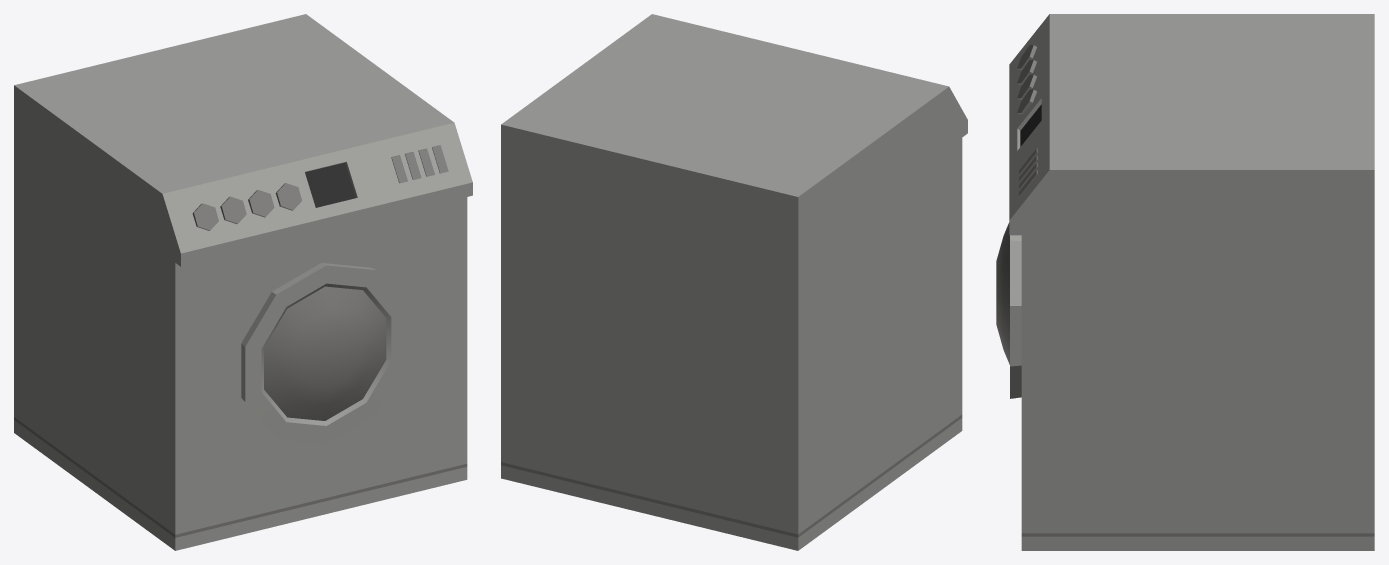
File: Bathroom_WashingMachine.glb
3 views of the same model, side by side, from view 1: azimuth 30°, elevation 25°; view 2: azimuth 150°, elevation 25°; view 3: azimuth 270°, elevation 25° (orthographic). The views are drawn at different scales.
Parts seen in each view (by area): view 1: Bathroom_WashingMachine; view 2: Bathroom_WashingMachine; view 3: Bathroom_WashingMachine.
Boxes of the visible parts, x1=… form: Bathroom_WashingMachine: x1=14, y1=14, x2=472, y2=550; Bathroom_WashingMachine: x1=501, y1=14, x2=967, y2=550; Bathroom_WashingMachine: x1=996, y1=14, x2=1374, y2=550.
Bounding box in the file's own units: 0.6317 × 0.7189 × 0.6473.
Materials: 3 (3 with a texture image).
